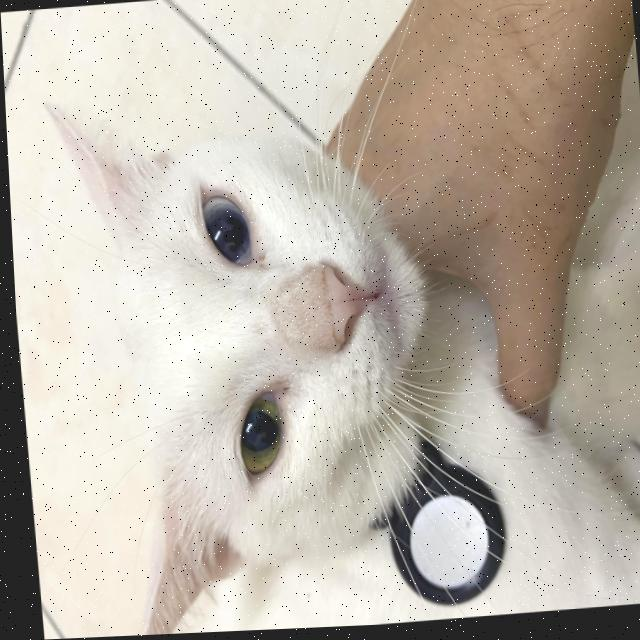Khao Manee: (29, 50, 640, 639)
